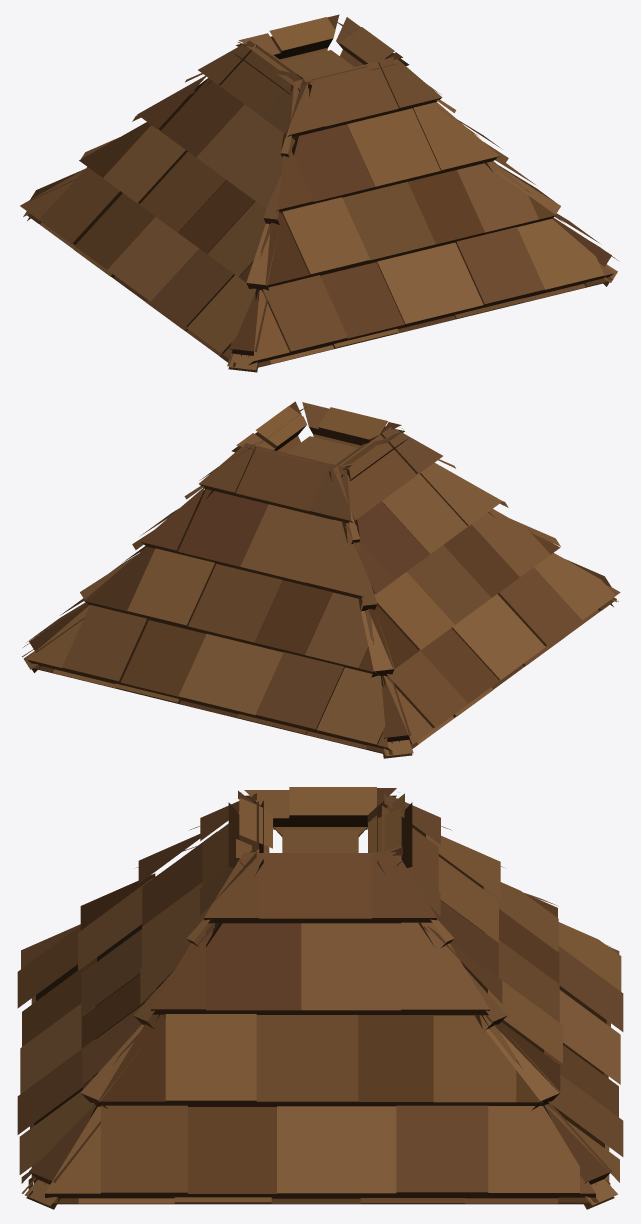
The model's file is roof-point-wood.glb.
3 views of the same model, one above another, from view 1: azimuth 30°, elevation 25°; view 2: azimuth 150°, elevation 25°; view 3: azimuth 270°, elevation 25° (orthographic). The views are drawn at different scales.
Visible parts, largest first — view 1: roof-point-wood; view 2: roof-point-wood; view 3: roof-point-wood.
Boxes of the visible parts, x1=… form: roof-point-wood: x1=20, y1=14, x2=619, y2=372; roof-point-wood: x1=22, y1=401, x2=620, y2=758; roof-point-wood: x1=17, y1=787, x2=623, y2=1209.
Bounding box in the file's own units: 1.1 × 0.5236 × 1.1.
